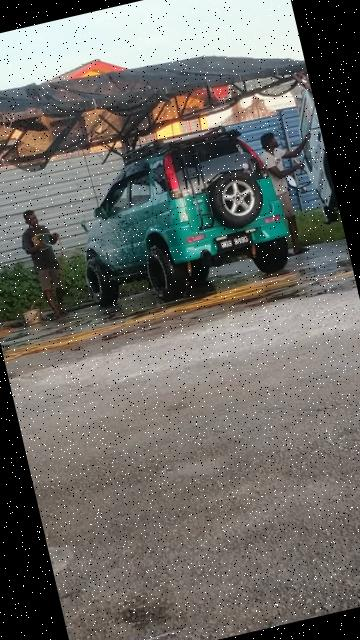License_Plate: (216, 229, 256, 257)
car: (59, 114, 301, 317)
